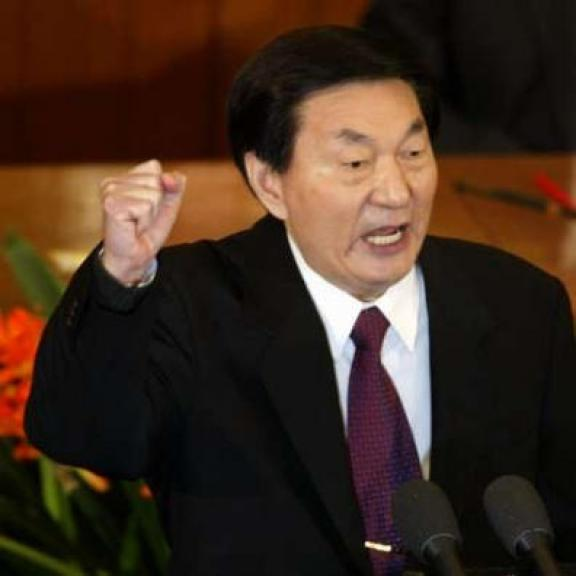face: (230, 83, 436, 290)
